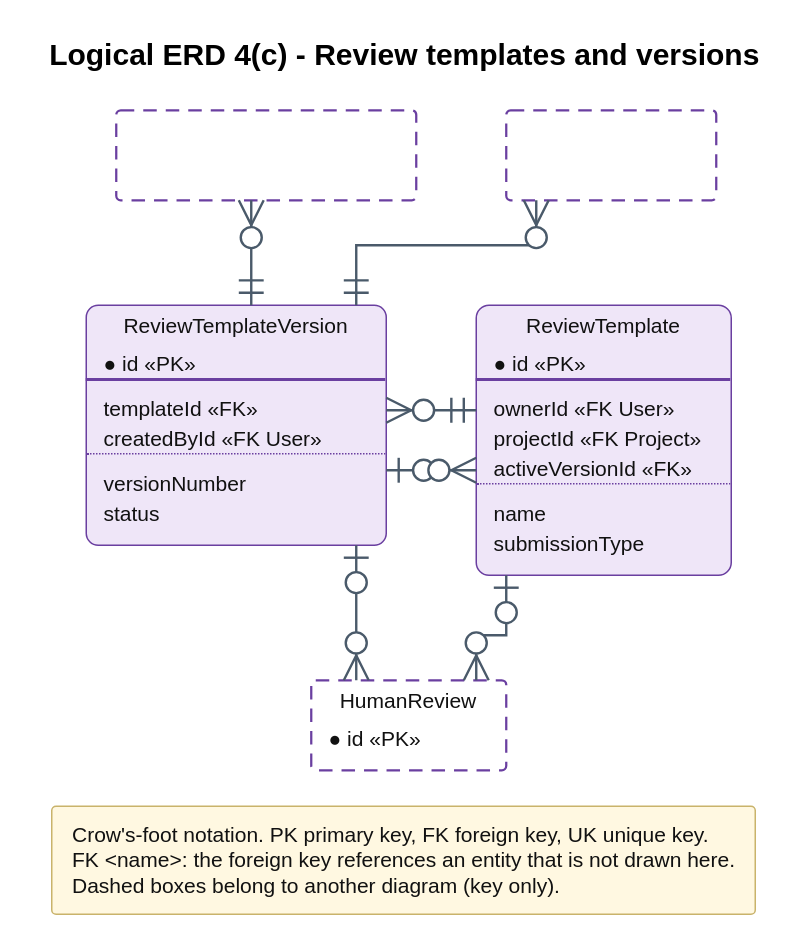
This 807x941 diagram has some shape labels left out. The box of each missing label's shape, as (x1, y1, x2, y2) in pixels:
ExternalReviewInvitation ● id «PK»: (114, 108, 417, 201)
ReviewRequest ● id «PK»: (504, 108, 717, 201)
